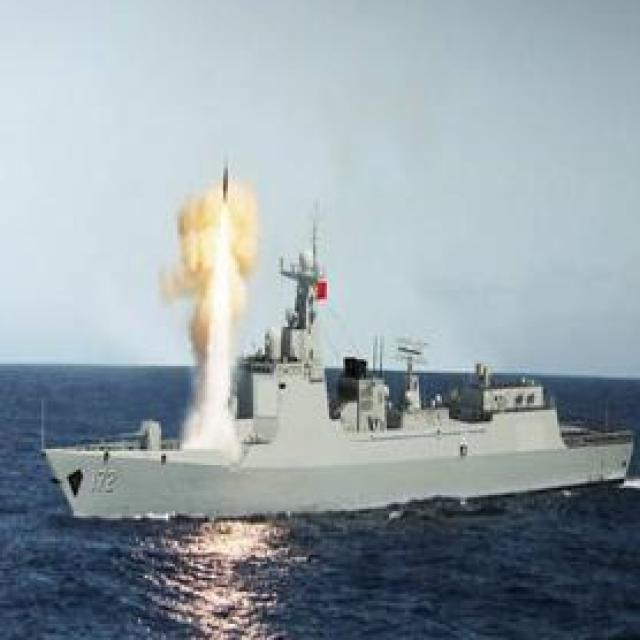navalvessels: (50, 218, 636, 518)
